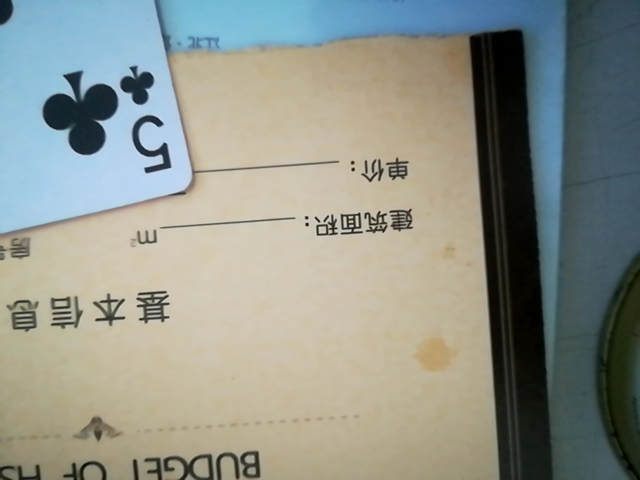mh 5: (0, 3, 197, 284)
